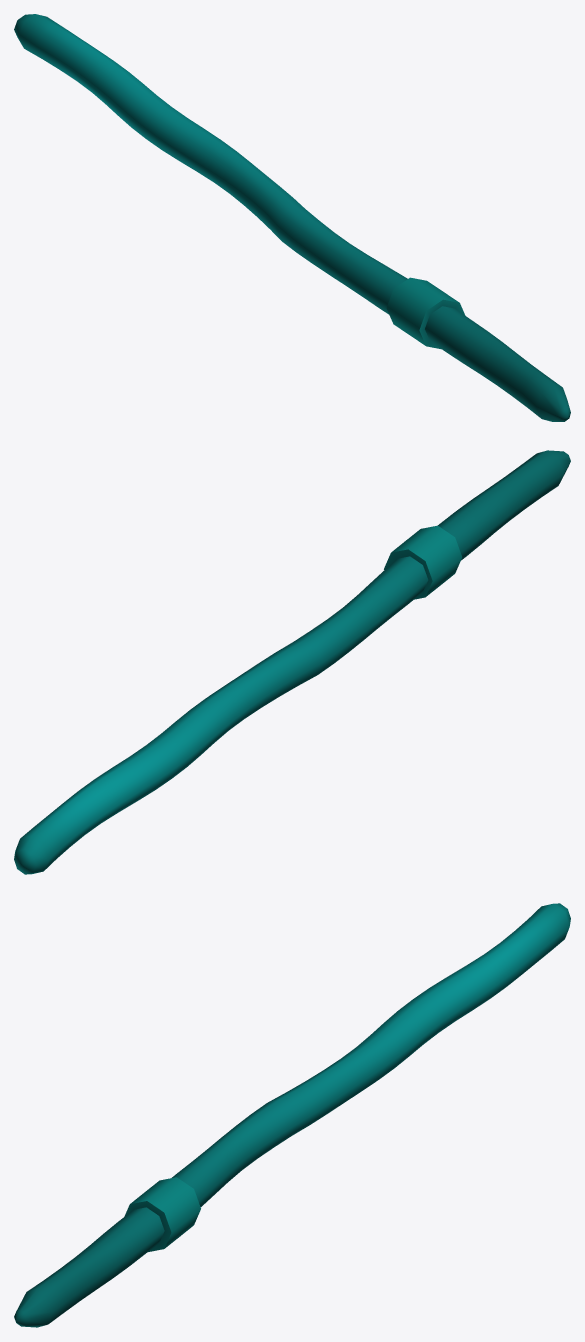
Rendered from animals-insects-earthworm_v1.fbx.
The picture shows the model from 3 angles, top to bottom: view 1: azimuth 30°, elevation 25°; view 2: azimuth 150°, elevation 25°; view 3: azimuth 330°, elevation 25°; orthographic projection. The views are drawn at different scales.
Visible parts, largest first — view 1: Earthworm.001; view 2: Earthworm.001; view 3: Earthworm.001.
Part boxes in pixels (x1,y1,x2,y2): Earthworm.001: [14, 14, 570, 421]; Earthworm.001: [14, 450, 570, 874]; Earthworm.001: [14, 903, 570, 1327].
Bounding box in the file's own units: 0.1529 × 0.1429 × 2.79.
